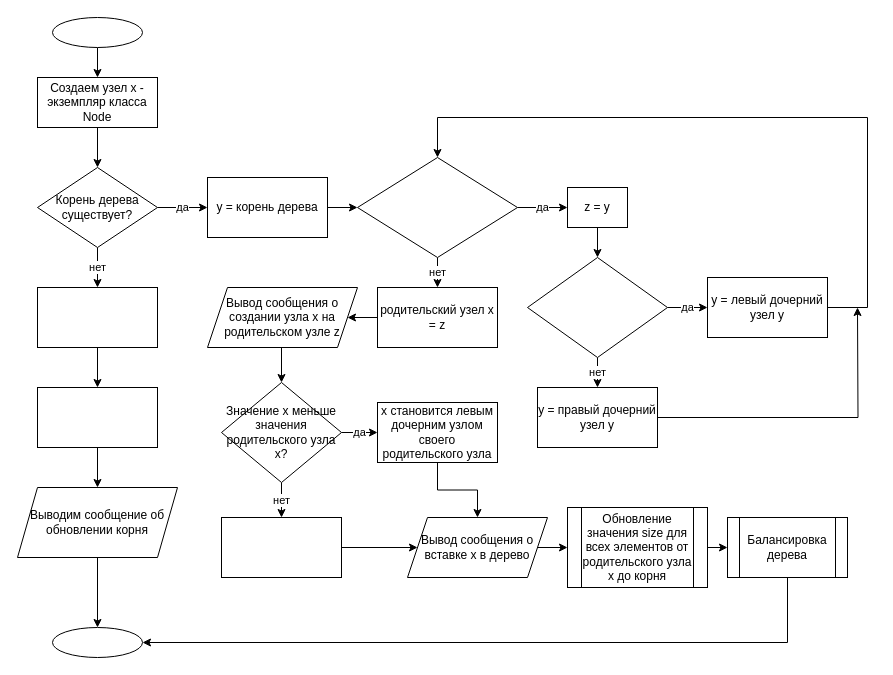
This 893x675 diagram has some shape labels left out. The box of each missing label's shape, as (x1, y1, x2, y2) in pixels:
Значение х меньше значения y?: (526, 256, 668, 358)
Конец: (52, 626, 142, 658)
Корень дерева = x: (36, 286, 158, 348)
Меняем цвет х на чёрный: (36, 386, 158, 448)
Начало: (52, 16, 142, 48)
Пока y существует (не None): (356, 156, 518, 258)
х становится правым дочерним узлом своего родительского узла: (220, 516, 342, 578)
